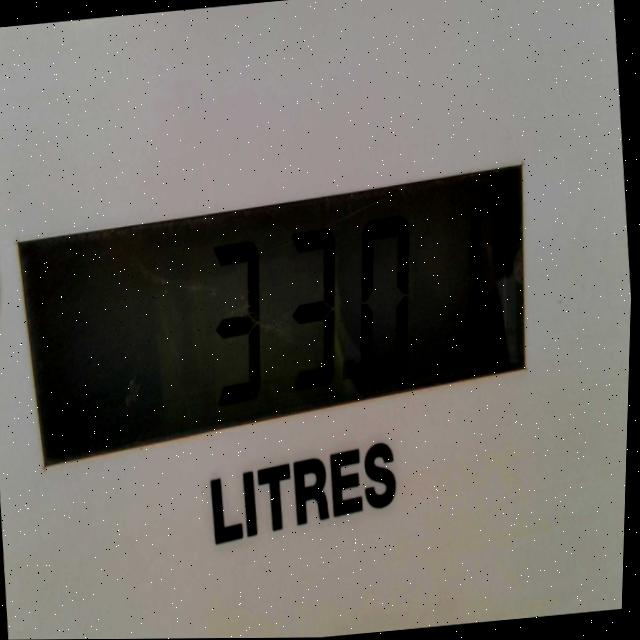.: (332, 350, 363, 394)
0: (347, 207, 429, 379)
1: (441, 188, 503, 365)
3: (201, 229, 280, 416), (273, 210, 348, 406)
